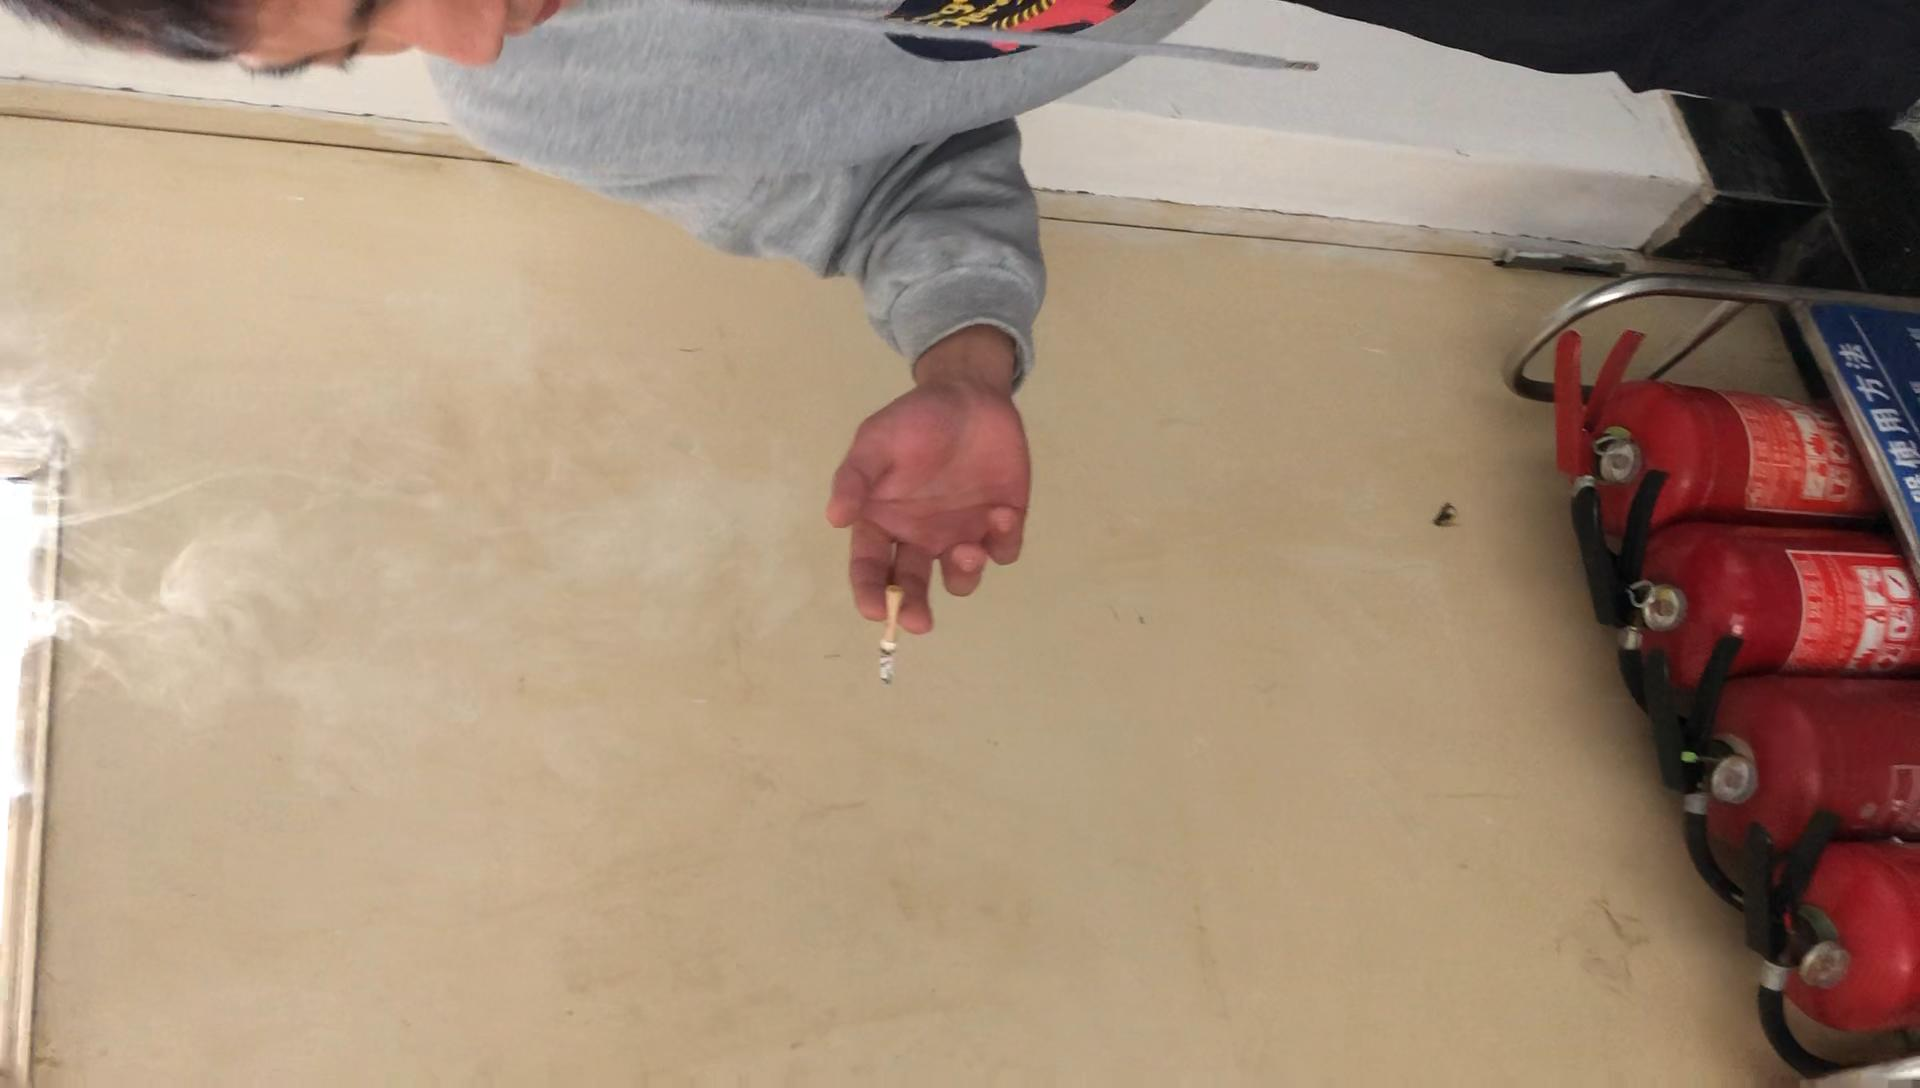yanwu: (40, 452, 397, 667)
